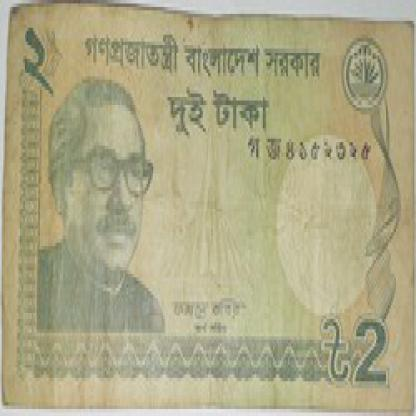two taka: (15, 17, 57, 122), (346, 312, 396, 388)
